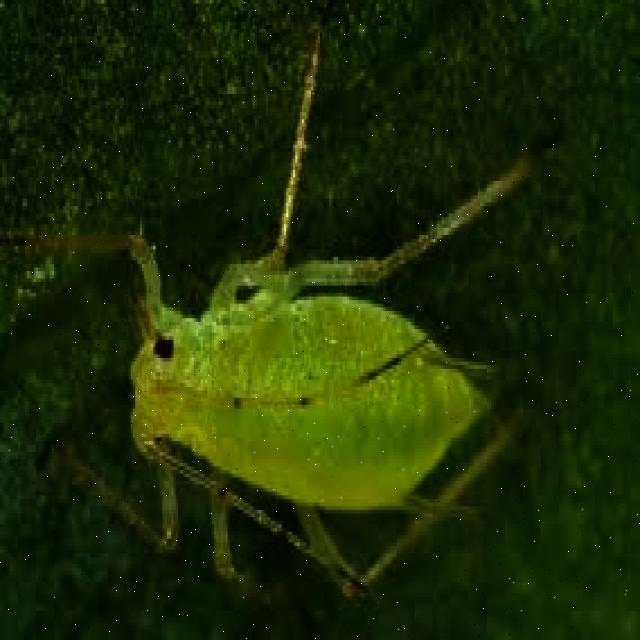whitefly: (12, 22, 564, 610)
